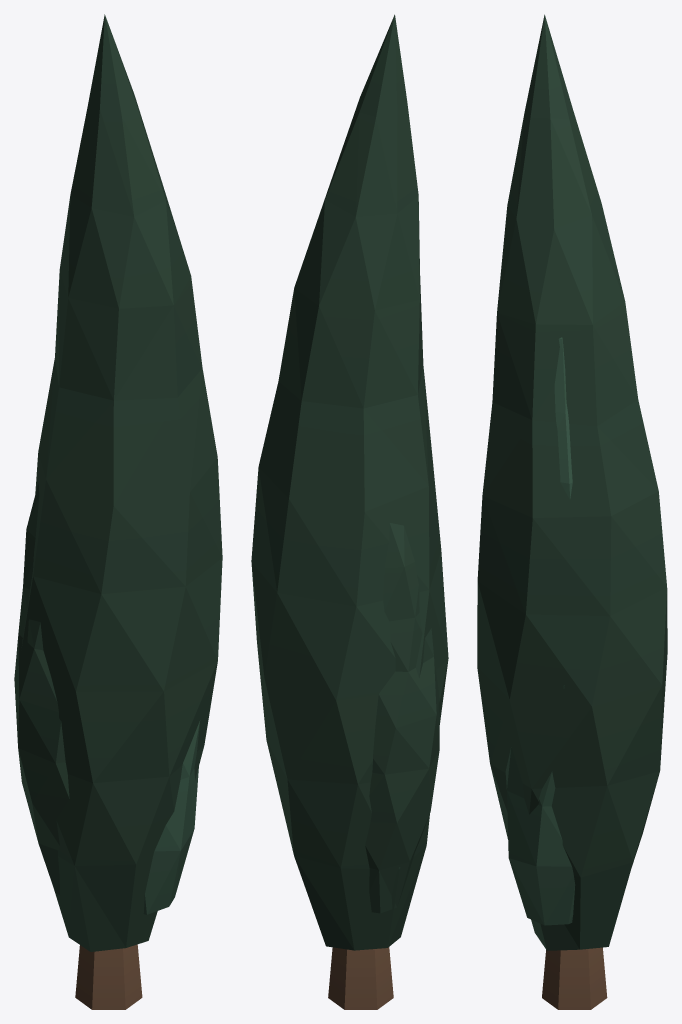
The model's file is cypress_small.glb.
The picture shows the model from 3 angles, left to right: view 1: azimuth 30°, elevation 25°; view 2: azimuth 150°, elevation 25°; view 3: azimuth 270°, elevation 25°; orthographic projection. The views are drawn at different scales.
Parts seen in each view (by area): view 1: cypress_small.001; view 2: cypress_small.001; view 3: cypress_small.001.
Part boxes in pixels (x1,y1,x2,y2): cypress_small.001: (14,14,222,1009); cypress_small.001: (251,14,448,1009); cypress_small.001: (477,14,667,1009).
Bounding box in the file's own units: 0.8709 × 4.6 × 0.8142.
1 material, 1 textured.
